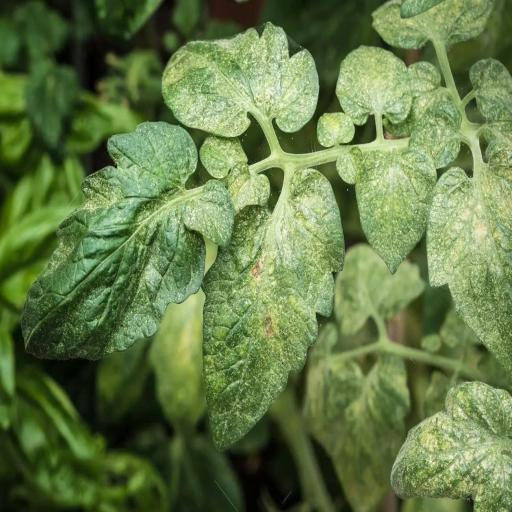disease_tomato: (18, 120, 208, 362), (200, 170, 343, 446), (158, 22, 320, 136), (389, 380, 512, 512), (352, 142, 438, 276), (334, 44, 413, 126)
